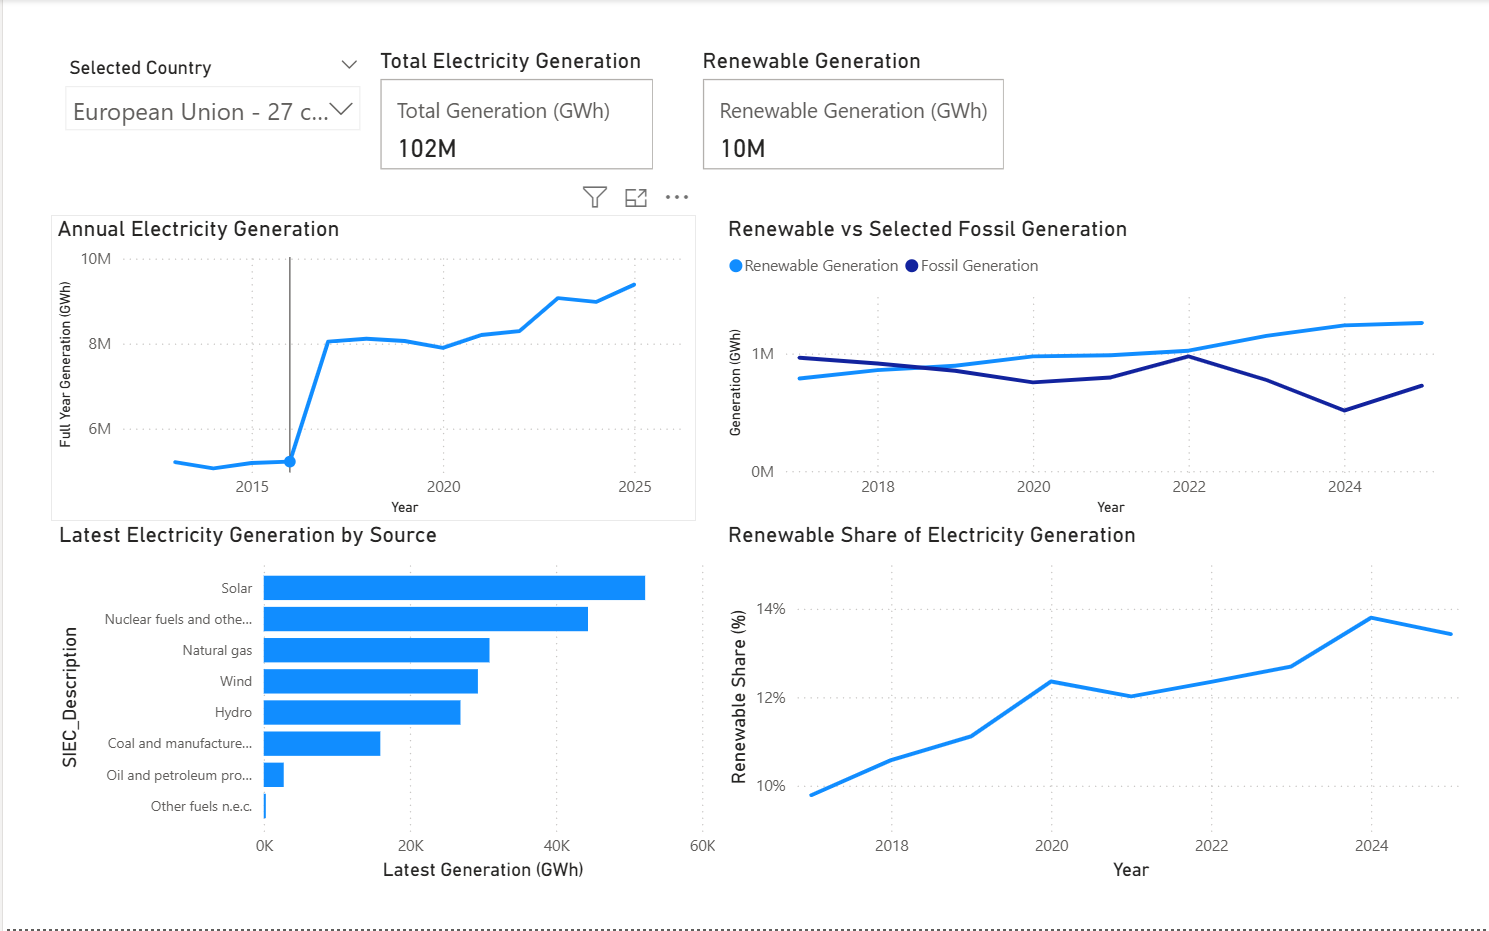

This screenshot's page, from the dashboard's own definition file:
{"tool":"powerbi","page":{"name":"Country Explorer","canvas":[1280,720],"ordinal":1},"visuals":[{"type":"slicer","fields":{"Values":["dim_country.Country_Name"]},"box":[38.3,39.4,248.2,97.4],"z":0},{"type":"cardVisual","title":"Total Electricity Generation","fields":{"Data":["fact_electricity_generation.Total Generation (GWh)"]},"box":[286.5,37.1,221.5,99.7],"z":1000},{"type":"cardVisual","title":"Renewable Generation","fields":{"Data":["fact_electricity_generation.Renewable Generation (GWh)"]},"box":[535.8,37.1,243.6,99.7],"z":2000},{"type":"lineChart","title":"Annual Electricity Generation","fields":{"Category":["dim_date.Year"],"Y":["fact_electricity_generation.Full Year Generation (GWh)"]},"box":[37.4,166.9,498.2,236.7],"z":3000},{"type":"clusteredBarChart","title":"Latest Electricity Generation by Source","fields":{"Category":["dim_energy_source.SIEC_Description"],"Y":["fact_electricity_generation.Latest Generation (GWh)"]},"box":[38.6,403.6,516.9,281.5],"z":4000},{"type":"lineChart","title":"Renewable Share of Electricity Generation","fields":{"Category":["dim_date.Year"],"Y":["fact_electricity_generation.Renewable Share (%)"]},"box":[555.5,403.6,581.7,281.5],"z":5000},{"type":"lineChart","title":"Renewable vs Selected Fossil Generation","fields":{"Category":["dim_date.Year"],"Y":["fact_electricity_generation.Full Year Renewable Generation (GWh)","fact_electricity_generation.Full Year Fossil Generation (GWh)"]},"box":[555.5,166.9,559.3,236.7],"z":6000}]}

Visuals, with their boxes on the page's 1280x720 design canvas (x1, y1, x2, y2). These are canvas units, not pixel positions in the 1489x931 screenshot, which may show the page scaled, cropped or inside an application window:
slicer - dim_country.Country_Name: BBox(38, 39, 286, 137)
"Total Electricity Generation" cardVisual: BBox(286, 37, 508, 137)
"Renewable Generation" cardVisual: BBox(536, 37, 779, 137)
"Annual Electricity Generation" lineChart: BBox(37, 167, 536, 404)
"Latest Electricity Generation by Source" clusteredBarChart: BBox(39, 404, 556, 685)
"Renewable Share of Electricity Generation" lineChart: BBox(556, 404, 1137, 685)
"Renewable vs Selected Fossil Generation" lineChart: BBox(556, 167, 1115, 404)
